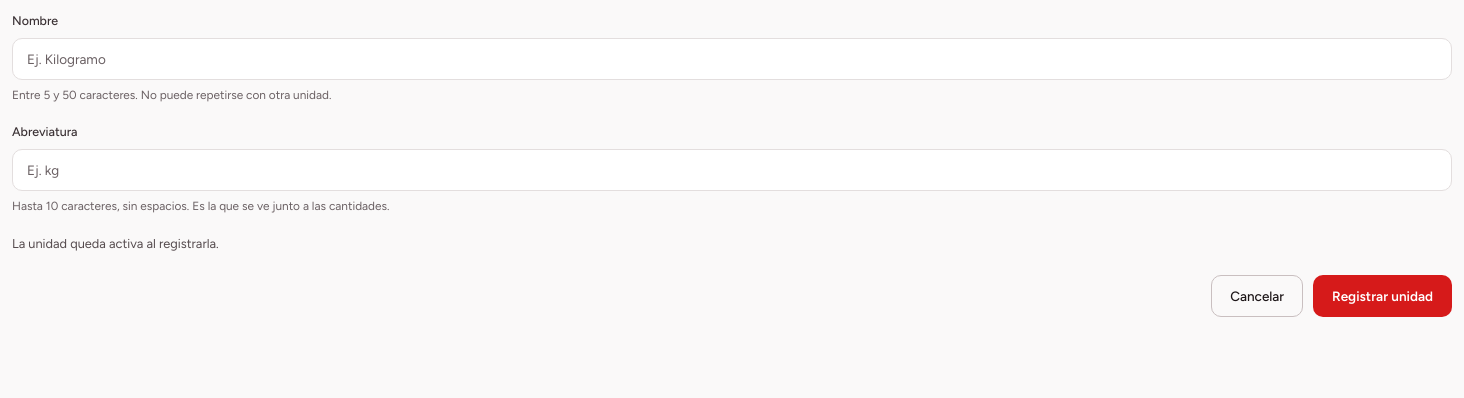
Test: CreateUnitForm › shows the api error ({"name":"ApiError","status":403})
The image size is (1464, 398).
Type "Gramo" into the field labelled "Nombre" at (732, 59), box [12,38,1452,80]
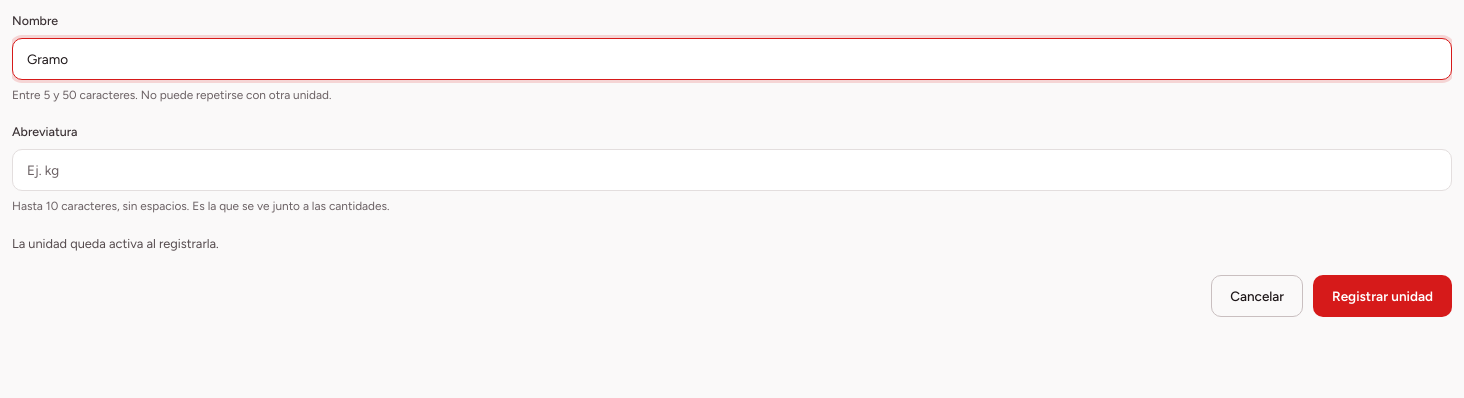
Type "g" into the field labelled "Abreviatura" at (732, 170), box [12,149,1452,191]
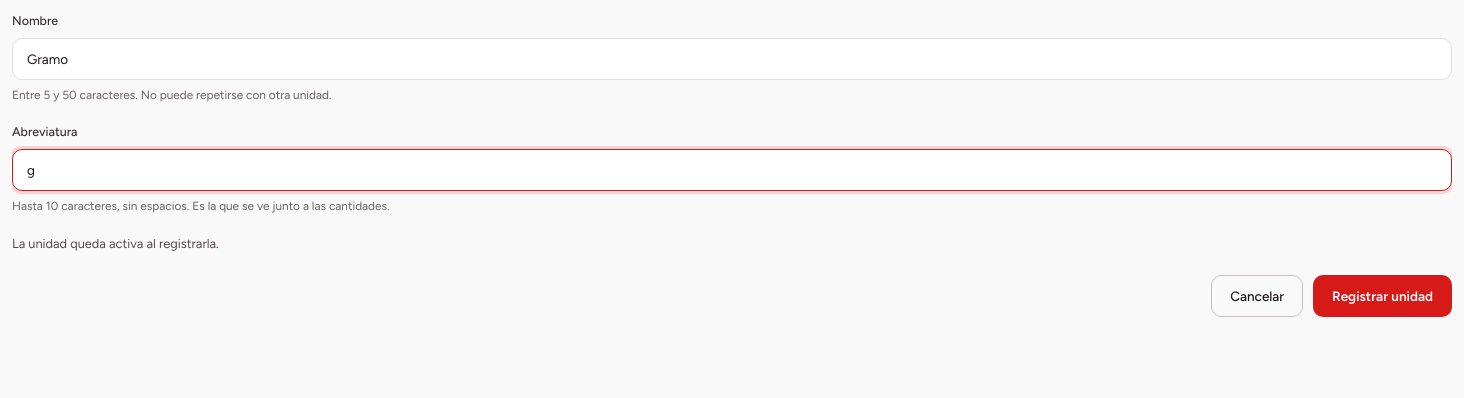
Click the button "Registrar unidad" at (1383, 296), box [1313,275,1452,317]
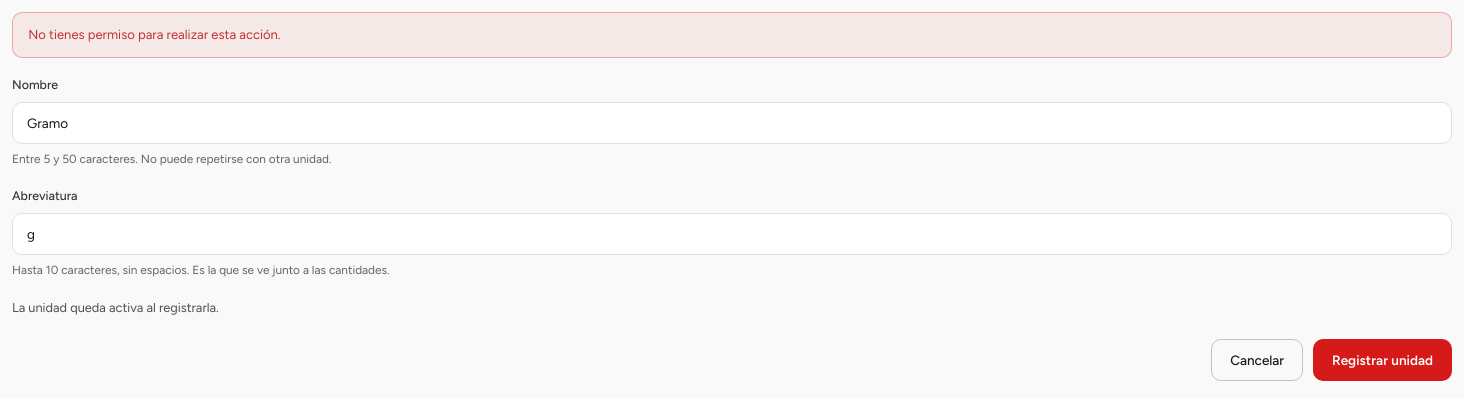
Result: the message reads "No tienes permiso para realizar esta acción." at [28,27,281,42]
